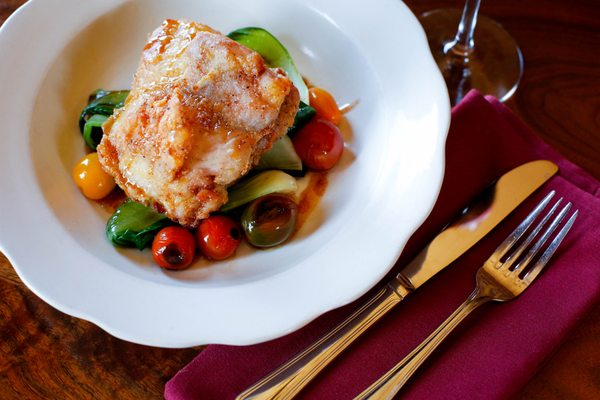burger: (233, 159, 560, 396), (355, 181, 578, 396)
